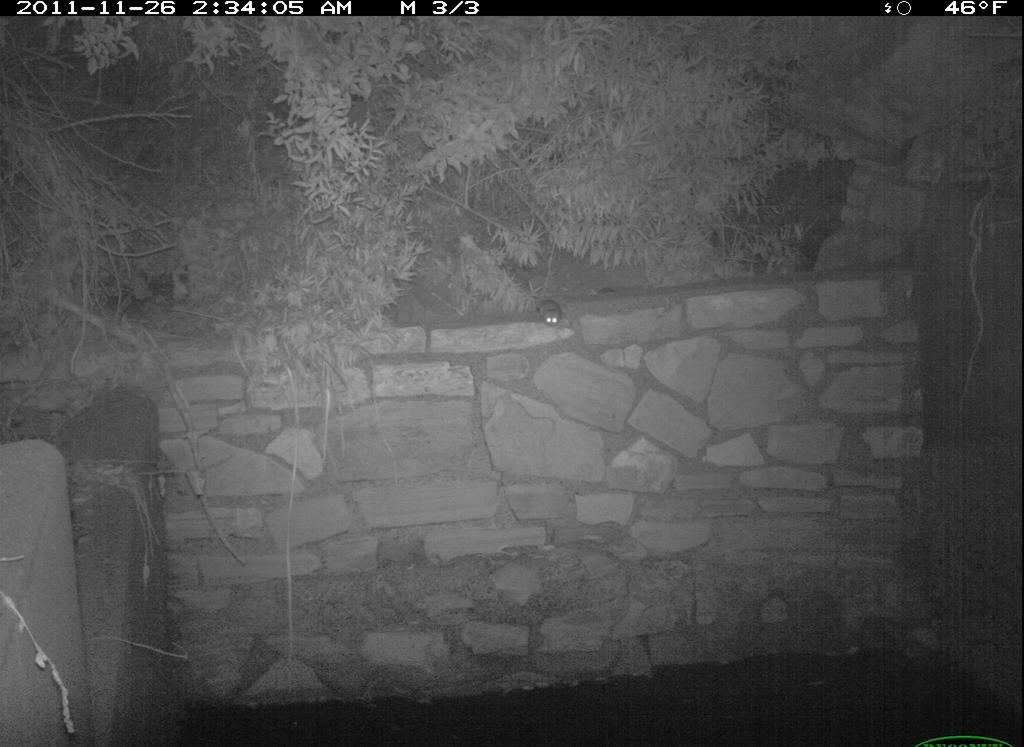rodent: (529, 290, 571, 341)
